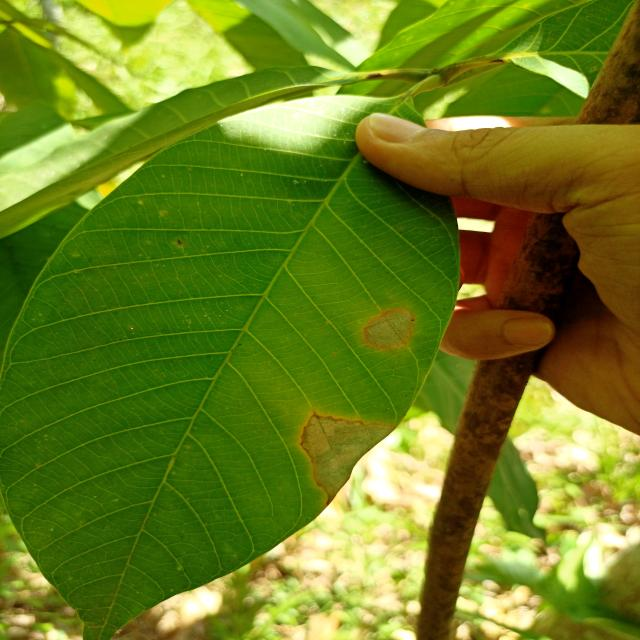Leaf-Blight: (298, 412, 398, 502), (361, 306, 415, 352)
